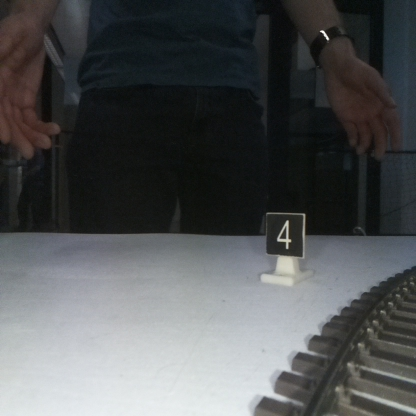black-stop-4: (266, 215, 305, 284)
